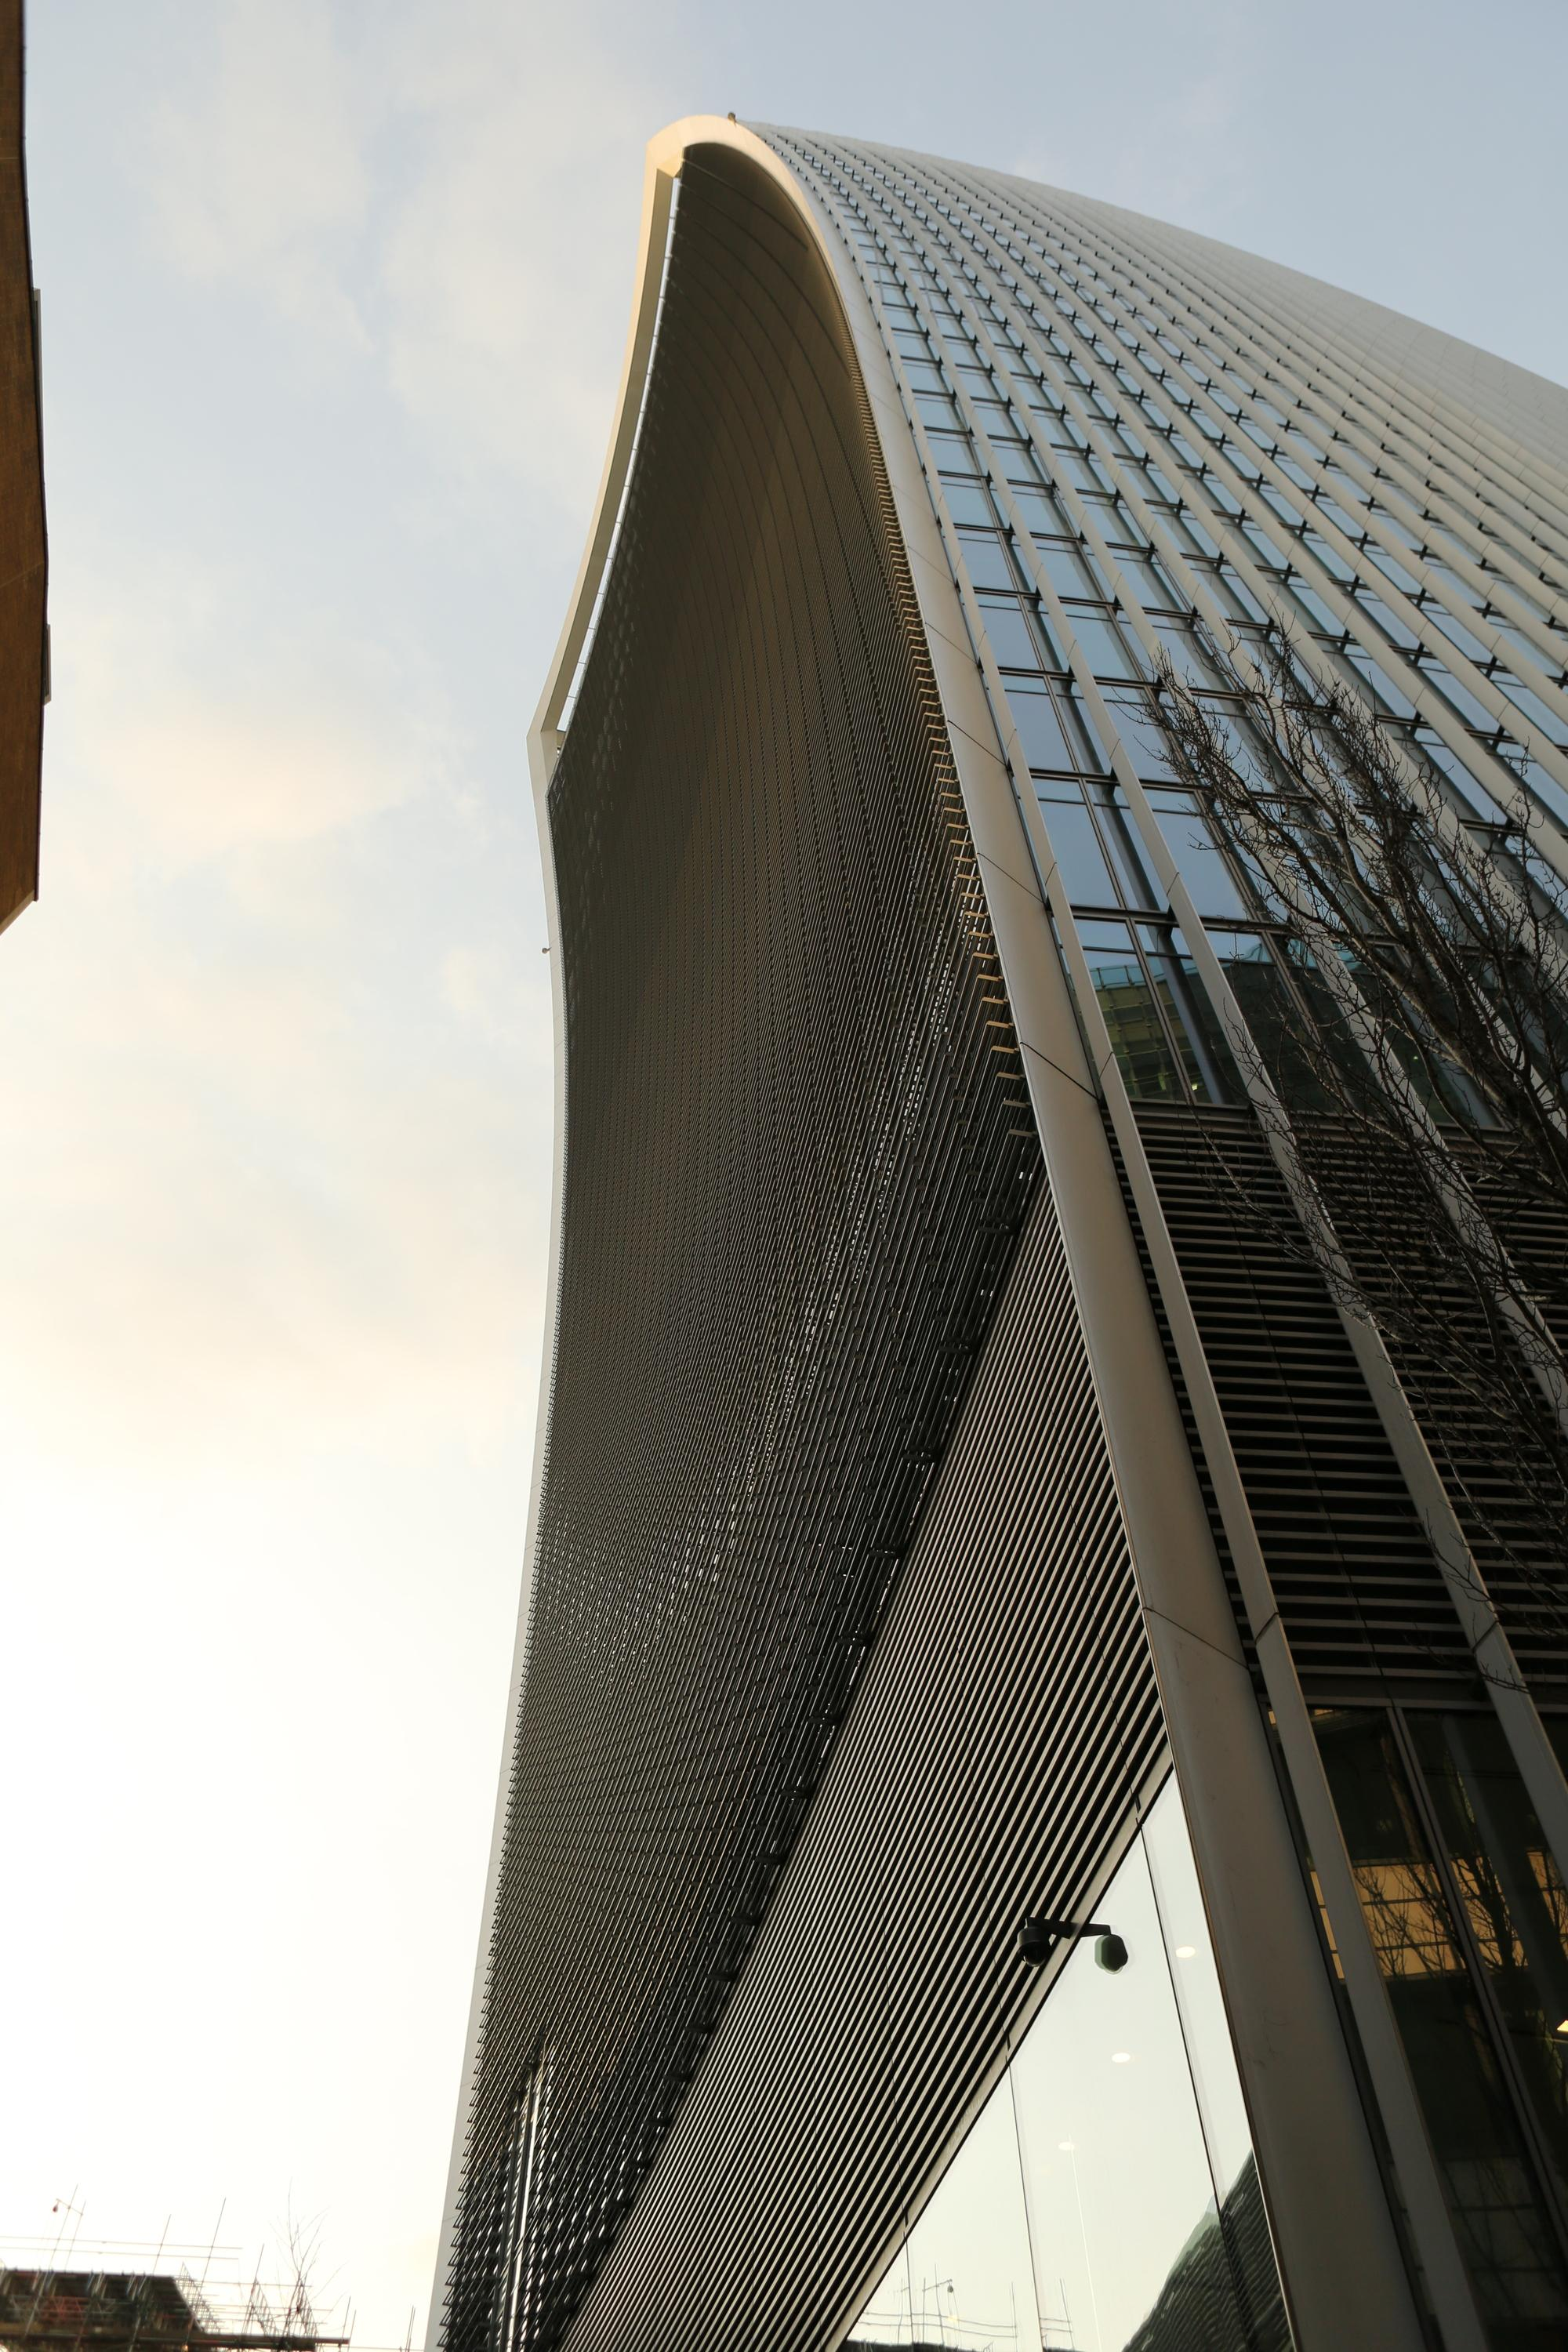Walkie talkie: (500, 87, 1559, 2327)
